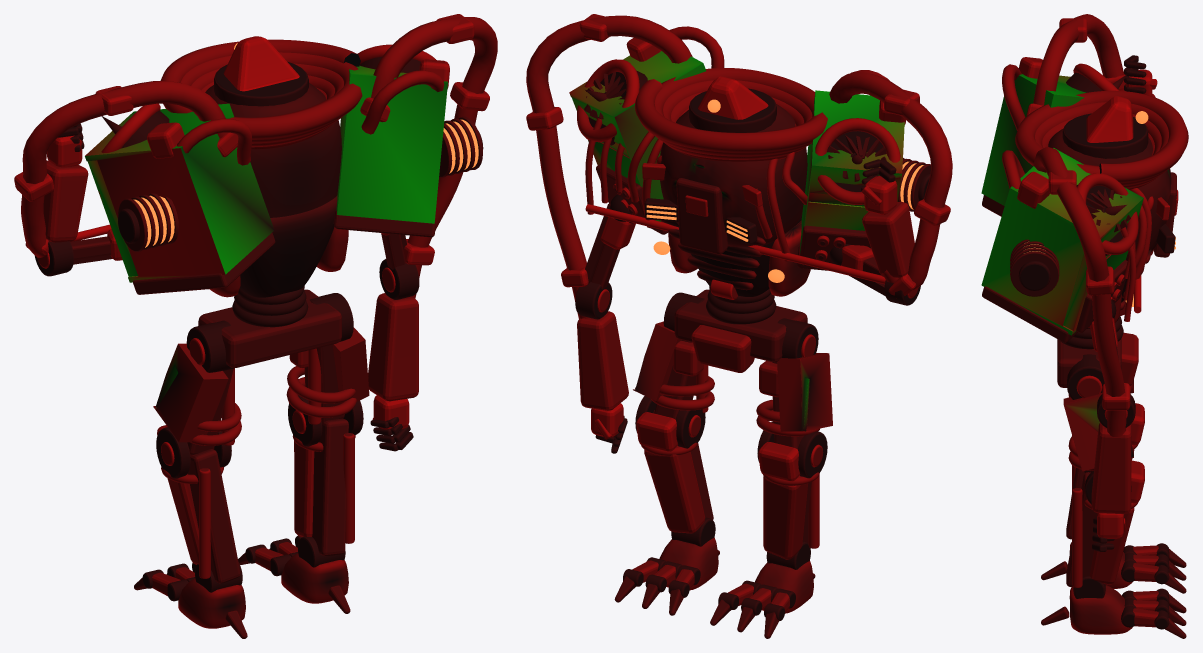
Rendered from mf_blackbeard.glb.
3 views of the same model, side by side, from view 1: azimuth 30°, elevation 25°; view 2: azimuth 150°, elevation 25°; view 3: azimuth 270°, elevation 25° (orthographic). The views are drawn at different scales.
Visible parts, largest first — view 1: box_l, box_r, rope_coil, hull_upper, hull_lower, hose_arc_l, pelvis_block, fore_shell_r, thigh_plate_l, hose_arc_r, shin_frame_r, shin_frame_l (+41 smaller); view 2: rope_coil, hull_upper, box_l, box_r, hose_arc_r, fore_shell_r, hose_arc_l, thigh_plate_l, shin_plate_r, pelvis_block, hose_arm_r, shin_plate_l (+45 smaller); view 3: box_r, rope_coil, box_l, fore_shell_r, hose_arc_l, hose_arc_r, hose_arm_r, foot_r, hull_upper, sensor_collar, thigh_plate_r, sensor_wedge (+37 smaller).
Boxes of the visible parts, x1,y1,x2,y2 form: box_l: (85,103,274,282); box_r: (336,65,447,223); rope_coil: (160,39,362,149); hull_upper: (205,83,341,217); hull_lower: (239,196,337,297); hose_arc_l: (22,81,226,183); pelvis_block: (198,289,341,367); fore_shell_r: (368,293,418,401); thigh_plate_l: (153,343,228,442); hose_arc_r: (371,17,497,98); shin_frame_r: (312,418,348,556); shin_frame_l: (187,449,240,583); rope_coil: (635,68,827,161); hull_upper: (660,104,807,246); box_l: (800,90,904,252); box_r: (569,51,706,221); hose_arc_r: (526,15,692,113); fore_shell_r: (577,311,628,410); hose_arc_l: (829,72,952,208); thigh_plate_l: (777,353,832,431); shin_plate_r: (644,446,705,533); pelvis_block: (674,289,807,362); hose_arm_r: (536,126,589,318); shin_plate_l: (763,475,807,559); box_r: (981,148,1143,335); rope_coil: (1015,90,1188,189); box_l: (981,74,1086,205); fore_shell_r: (1091,422,1131,514); hose_arc_l: (1033,14,1123,105); hose_arc_r: (1033,147,1109,281); hose_arm_r: (1092,294,1126,436); foot_r: (1069,585,1132,634); hull_upper: (1048,128,1171,260); sensor_collar: (1062,113,1148,158); thigh_plate_r: (1063,393,1133,471); sensor_wedge: (1086,96,1133,142).
Size of the model in its own units: 0.901 by 1.06 by 0.3863.
